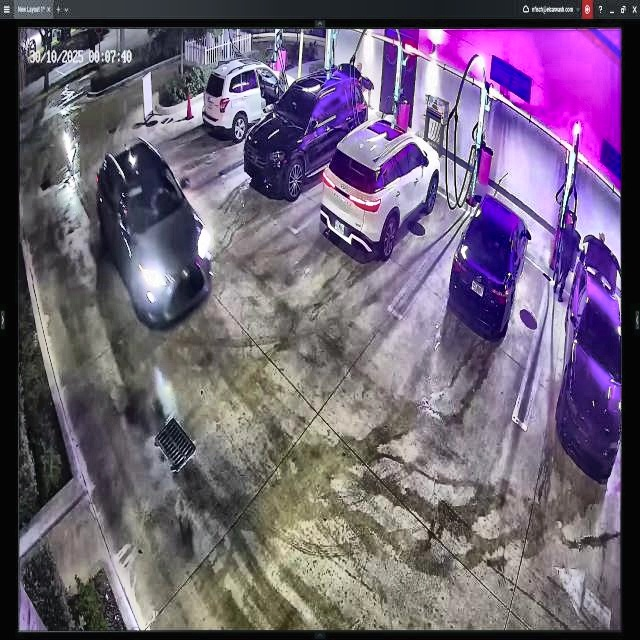Car: (95, 136, 210, 326), (324, 119, 438, 258), (244, 68, 366, 194), (451, 196, 530, 339), (202, 62, 296, 139)
